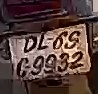2: (69, 53, 85, 73)
3: (58, 53, 70, 74)
6: (52, 31, 66, 52)
9: (42, 52, 57, 75), (32, 55, 45, 76)
C: (13, 55, 29, 79)
D: (22, 34, 38, 55)
L: (38, 35, 50, 52)
S: (64, 31, 82, 50)
